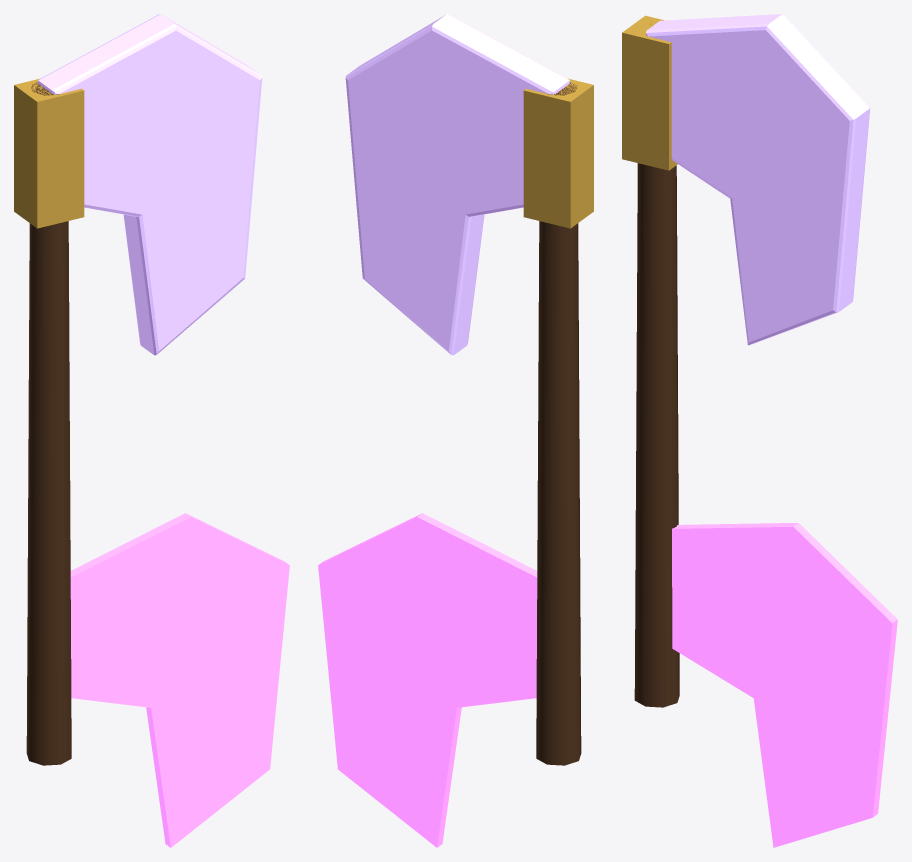
Rendered from axe_f1_215fe46e.glb.
3 renders of one model, left to right at view 1: azimuth 30°, elevation 25°; view 2: azimuth 150°, elevation 25°; view 3: azimuth 330°, elevation 25°, orthographic.
Visible parts, largest first — view 1: m1_, m2_ow80_, m0_ow80_, m3_ow80_; view 2: m1_, m2_ow80_, m0_ow80_, m3_ow80_; view 3: m1_, m2_ow80_, m0_ow80_, m3_ow80_.
Boxes of the visible parts, x1,y1,x2,y2 form: m1_: (70,513,289,847); m2_ow80_: (38,14,262,355); m0_ow80_: (26,82,71,765); m3_ow80_: (14,78,84,228); m1_: (318,513,537,847); m2_ow80_: (345,14,569,355); m0_ow80_: (536,82,581,765); m3_ow80_: (523,78,593,228); m1_: (672,523,897,847); m2_ow80_: (646,14,870,345); m0_ow80_: (634,24,679,707); m3_ow80_: (622,15,677,170).
Size of the model in its own units: 0.778 by 2.35 by 0.12.
